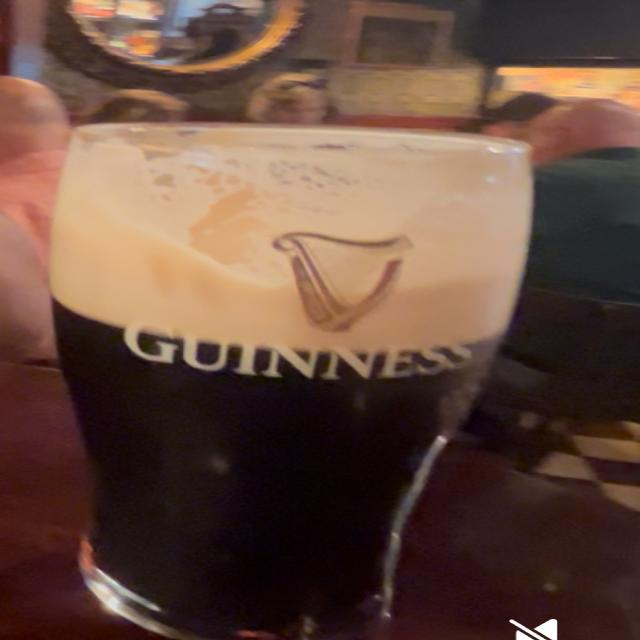split_guiness: (51, 118, 541, 640)
